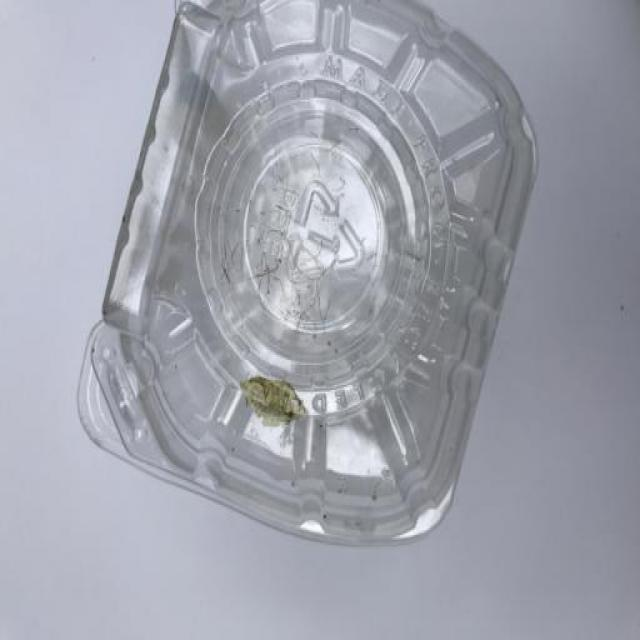Plastic: (78, 0, 536, 548)
